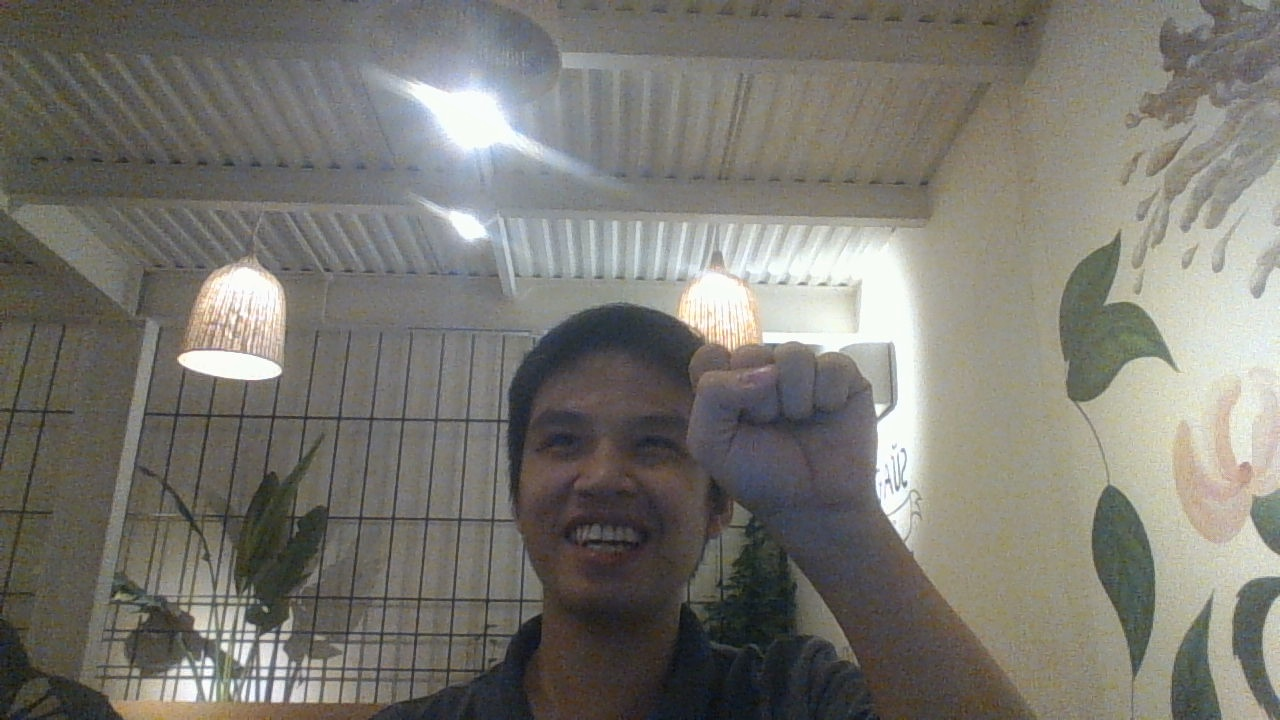stop: (682, 338, 882, 521)
